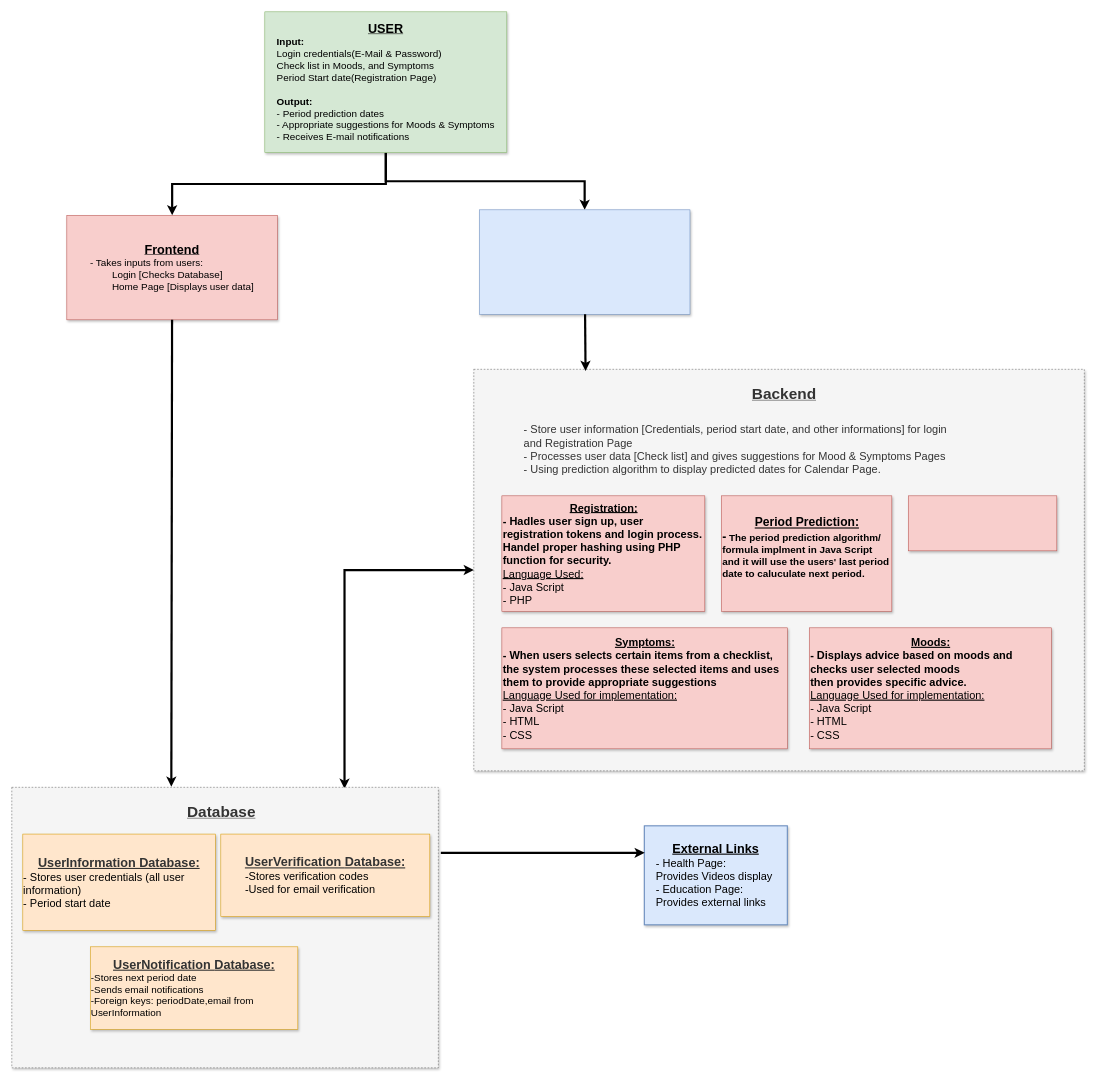
Image size: 1097x1081. Some labels were removed from this diagram. Each missing label, with the centre of its shape:
Gateway: - Routes requests to appropriate backend servies: [585,262]
Notification - Sends E-Mail reminders: [983,524]
